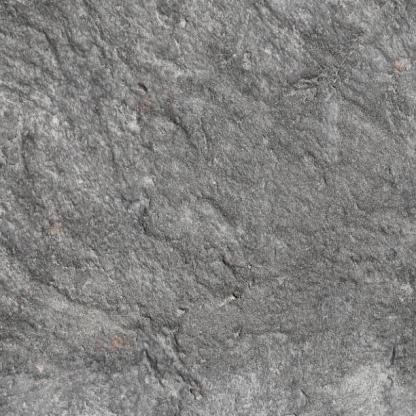Metamorphic_Marble: (4, 7, 415, 415)
